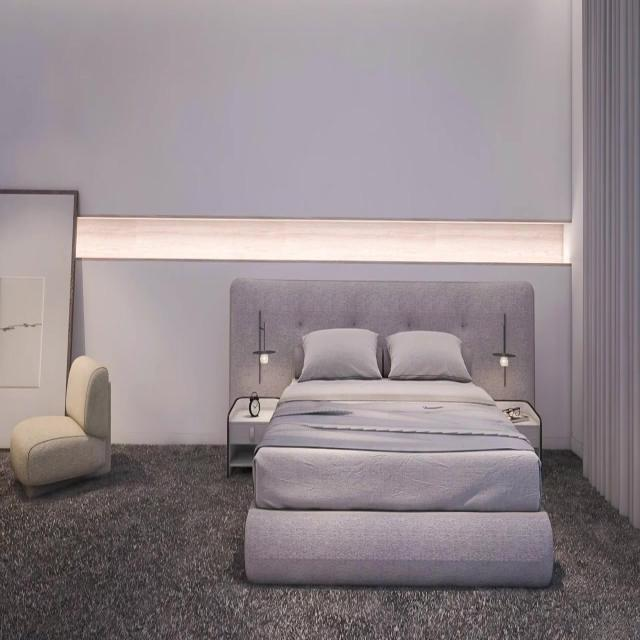obstacle: (245, 280, 554, 586), (9, 354, 111, 498)
